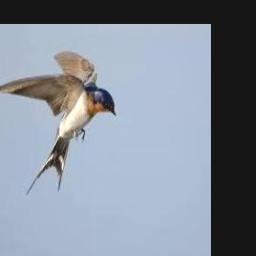Swallow: (0, 51, 115, 196)
